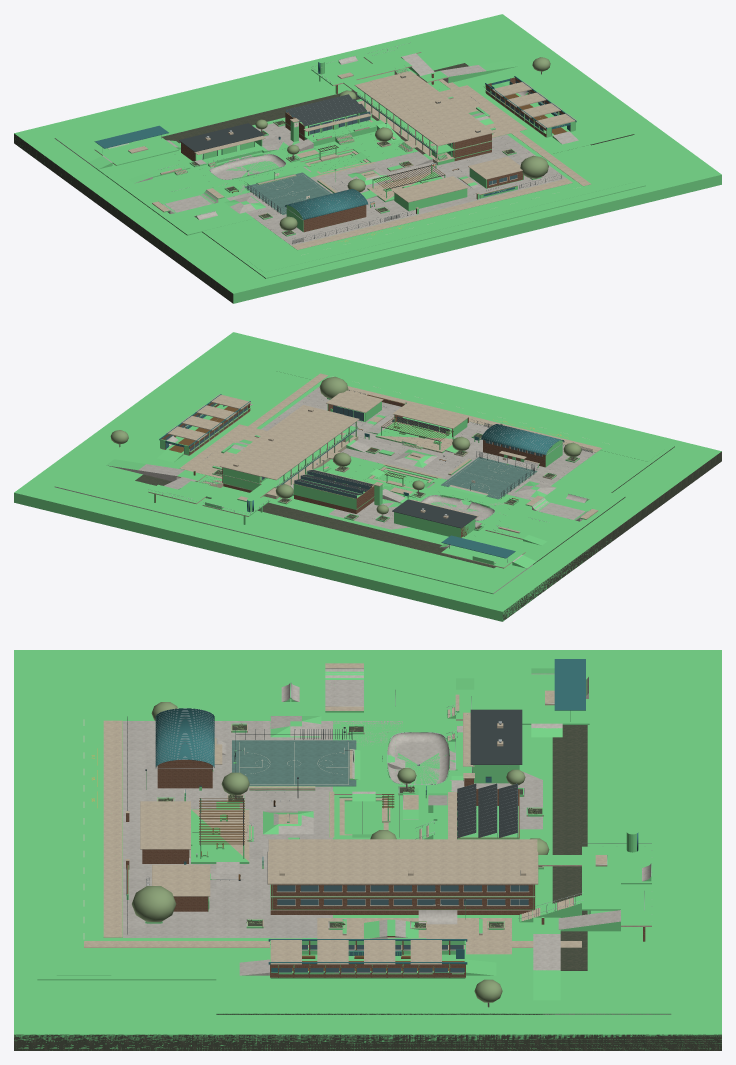
Rendered from eastbank-school.glb.
The picture shows the model from 3 angles, top to bottom: view 1: azimuth 30°, elevation 25°; view 2: azimuth 150°, elevation 25°; view 3: azimuth 270°, elevation 25°; orthographic projection. The views are drawn at different scales.
Parts seen in each view (by area): view 1: COL_Landscape, ENV_Concrete_warm@q1#0, COL_NorthExtension, COL_Dropoff, COL_WestService, COL_EastConcourse, ENV_Concrete_warm@q3#0, ENV_Concrete_trowelled@q3#0, ENV_Concrete_trowelled@q2#0, COL_Campus, ENV_Brick_fired@q#0, COL_UpperTerrace (+24 smaller); view 2: COL_Landscape, COL_NorthExtension, ENV_Concrete_warm@q1#0, COL_Dropoff, COL_EastConcourse, COL_WestService, ENV_Concrete_warm@q3#0, ENV_Concrete_trowelled@q2#0, COL_Campus, ENV_Landscape_dry@q#0, COL_UpperTerrace, ENV_Concrete_trowelled@q3#0 (+22 smaller); view 3: COL_Landscape, COL_NorthExtension, ENV_Concrete_warm@q1#0, COL_Dropoff, COL_EastConcourse, COL_WestService, ENV_Landscape_dry@q#0, ENV_Concrete_trowelled@q3#0, ENV_Brick_fired@q#0, ENV_Concrete_trowelled@q2#0, ENV_Concrete_warm@q3#0, COL_UpperTerrace (+30 smaller).
Part boxes in pixels (left/top/right/bottom): COL_Landscape: left=14, top=14, right=721, bottom=303; ENV_Concrete_warm@q1#0: left=310, top=52, right=578, bottom=182; COL_NorthExtension: left=55, top=31, right=531, bottom=146; COL_Dropoff: left=247, top=169, right=635, bottom=272; COL_WestService: left=55, top=130, right=253, bottom=235; COL_EastConcourse: left=427, top=57, right=633, bottom=156; ENV_Concrete_warm@q3#0: left=305, top=82, right=591, bottom=248; ENV_Concrete_trowelled@q3#0: left=365, top=131, right=578, bottom=211; ENV_Concrete_trowelled@q2#0: left=170, top=165, right=428, bottom=245; COL_Campus: left=166, top=83, right=445, bottom=244; ENV_Brick_fired@q#0: left=181, top=74, right=570, bottom=232; COL_UpperTerrace: left=311, top=45, right=518, bottom=93; COL_Landscape: left=14, top=332, right=721, bottom=621; COL_NorthExtension: left=55, top=460, right=526, bottom=593; ENV_Concrete_warm@q1#0: left=148, top=378, right=386, bottom=516; COL_Dropoff: left=277, top=358, right=664, bottom=461; COL_EastConcourse: left=91, top=383, right=291, bottom=482; COL_WestService: left=426, top=480, right=625, bottom=593; ENV_Concrete_warm@q3#0: left=188, top=373, right=596, bottom=470; ENV_Concrete_trowelled@q2#0: left=395, top=421, right=595, bottom=500; COL_Campus: left=197, top=456, right=589, bottom=541; ENV_Landscape_dry@q#0: left=214, top=434, right=721, bottom=621; COL_UpperTerrace: left=106, top=459, right=273, bottom=524; ENV_Concrete_trowelled@q3#0: left=250, top=386, right=417, bottom=465; COL_Landscape: left=14, top=650, right=721, bottom=1050; COL_NorthExtension: left=543, top=668, right=671, bottom=1014; ENV_Concrete_warm@q1#0: left=92, top=793, right=651, bottom=973; COL_Dropoff: left=56, top=683, right=111, bottom=975; COL_EastConcourse: left=216, top=927, right=554, bottom=1014; COL_WestService: left=243, top=668, right=671, bottom=720; ENV_Landscape_dry@q#0: left=14, top=725, right=721, bottom=1050; ENV_Concrete_trowelled@q3#0: left=123, top=825, right=332, bottom=975; ENV_Brick_fired@q#0: left=126, top=760, right=645, bottom=977; ENV_Concrete_trowelled@q2#0: left=123, top=716, right=332, bottom=829; ENV_Concrete_warm@q3#0: left=84, top=724, right=577, bottom=964; COL_UpperTerrace: left=520, top=829, right=651, bottom=1000.
Bounding box in the file's own units: 234 × 15.5 × 182.
19 materials, 7 textured.
